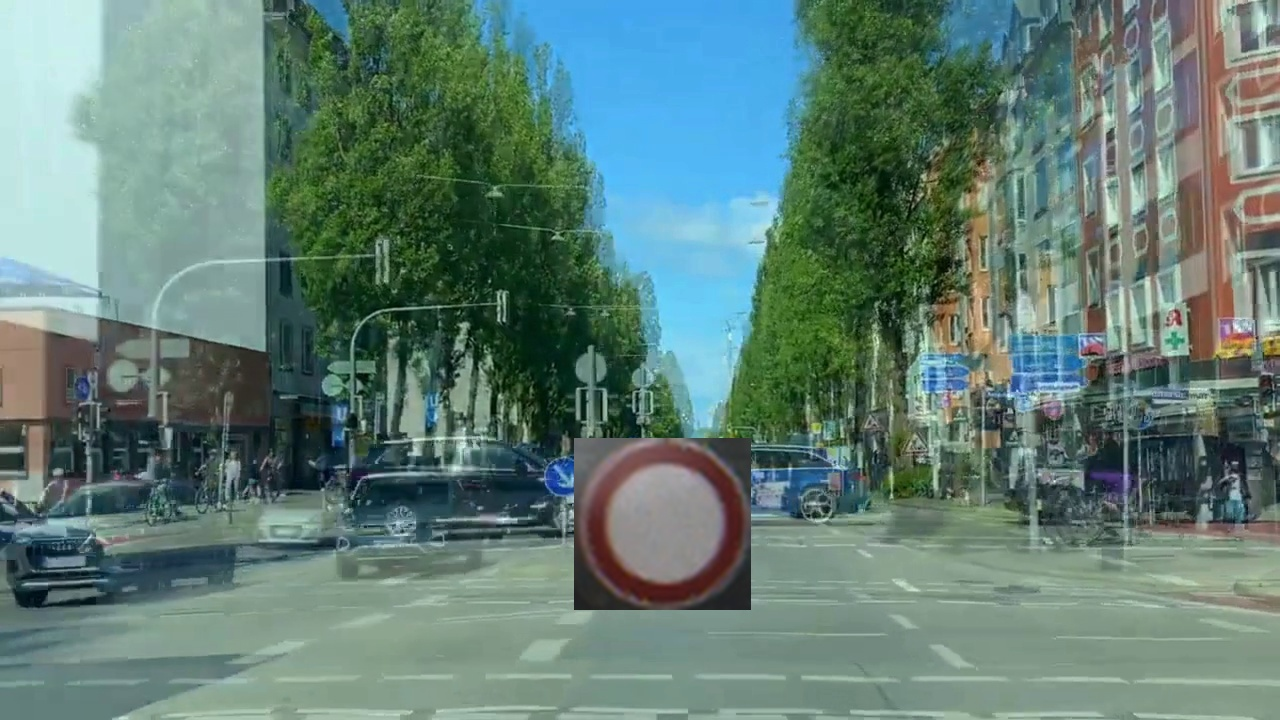No vehicles: (574, 438, 751, 610)
